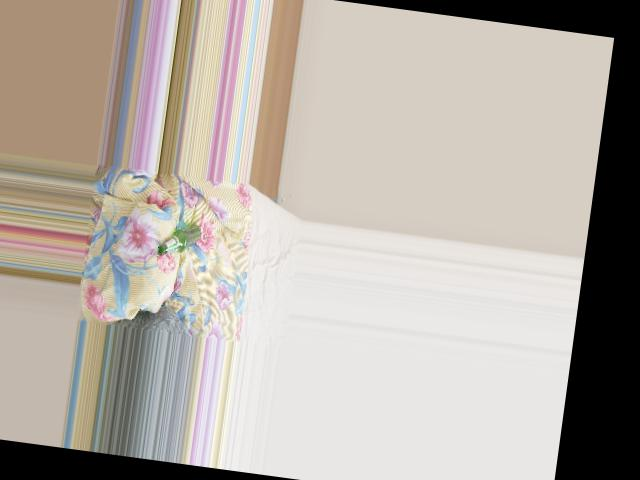beer: (155, 219, 201, 259)
